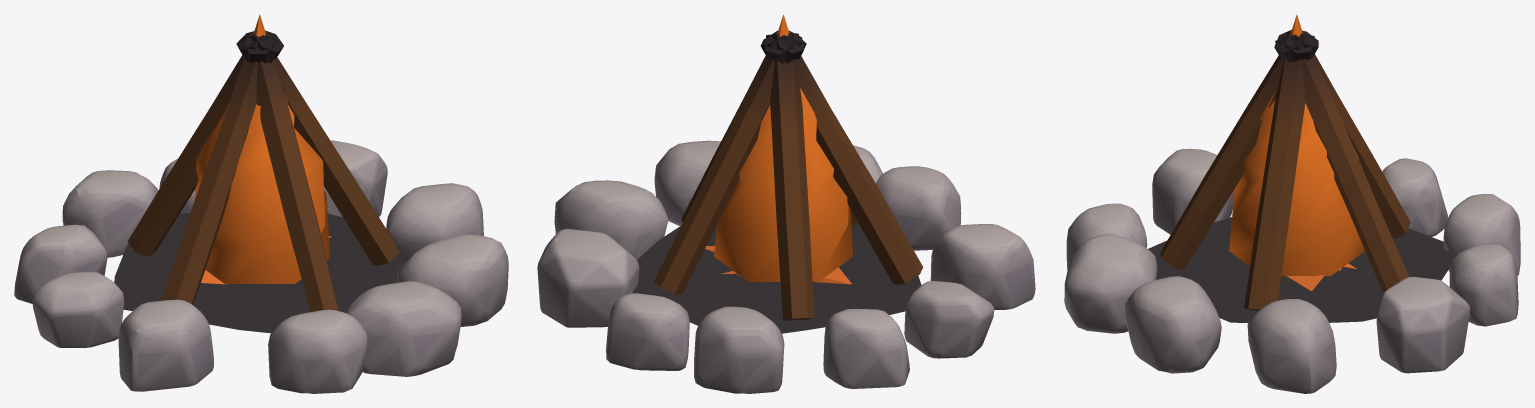
The model's file is campfire.glb.
The picture shows the model from 3 angles, left to right: view 1: azimuth 30°, elevation 25°; view 2: azimuth 150°, elevation 25°; view 3: azimuth 270°, elevation 25°; orthographic projection. The views are drawn at different scales.
Parts seen in each view (by area): view 1: campfire, Flame; view 2: campfire, Flame; view 3: campfire, Flame.
Boxes of the visible parts, <box> form: campfire: <box>14,30,508,393</box>; Flame: <box>194,14,329,283</box>; campfire: <box>537,30,1035,393</box>; Flame: <box>714,14,852,281</box>; campfire: <box>1064,29,1520,393</box>; Flame: <box>1229,14,1364,275</box>.
Size of the model in its own units: 1.97 by 1.24 by 1.83.
